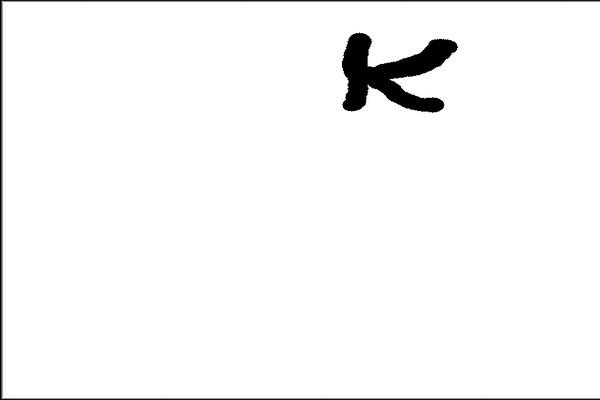K: (334, 26, 463, 121)
